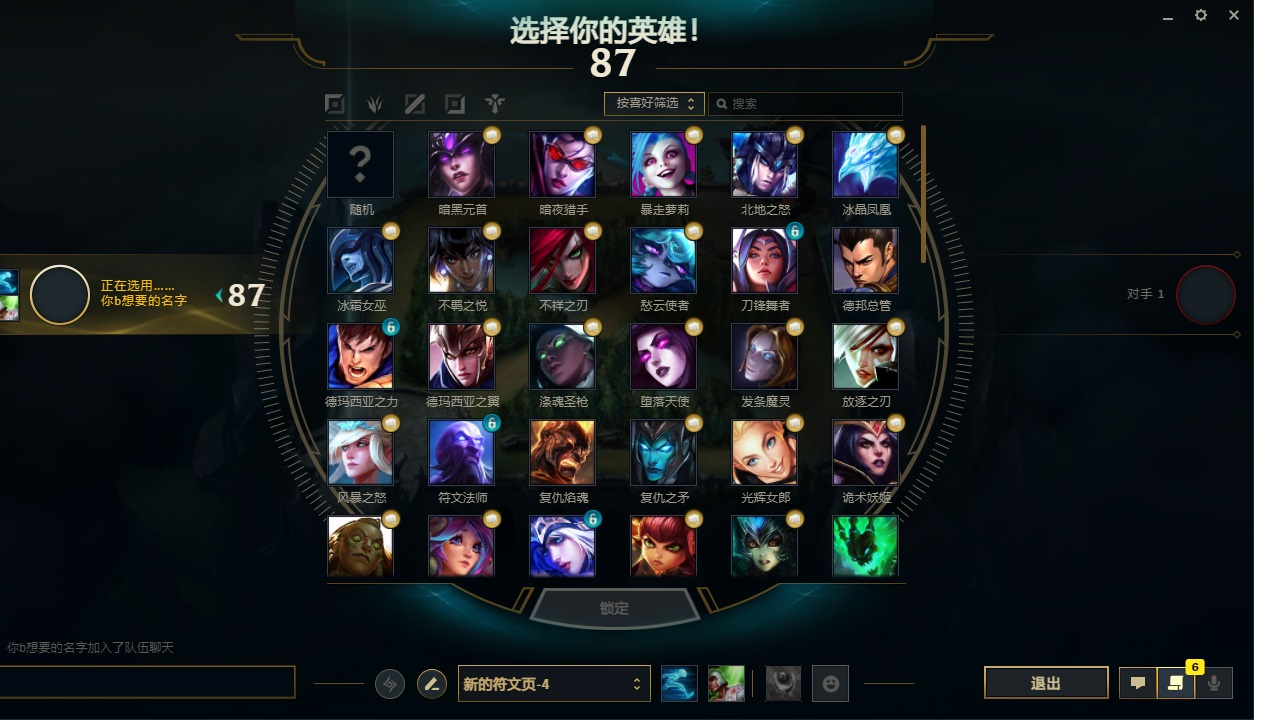HBSS: (528, 532, 602, 569)
HSSD: (524, 581, 717, 636)
JKS: (633, 151, 702, 194)
XL: (439, 88, 473, 116)
